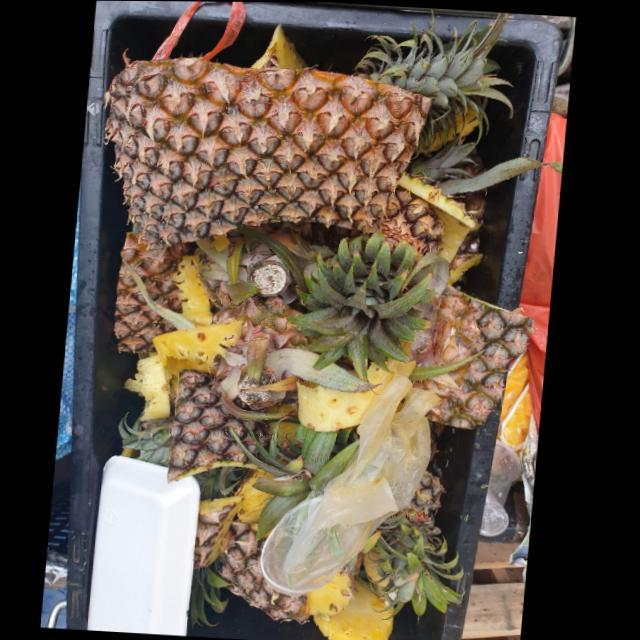plastic_bag: (266, 372, 445, 592)
